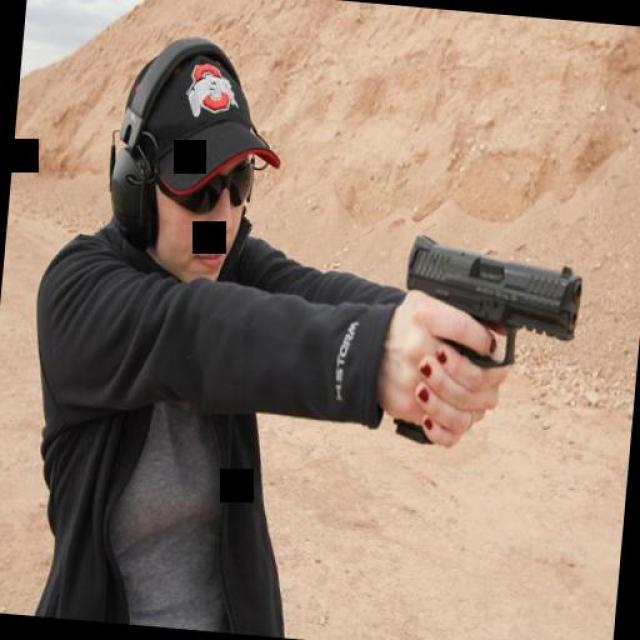gun: (380, 221, 584, 495)
